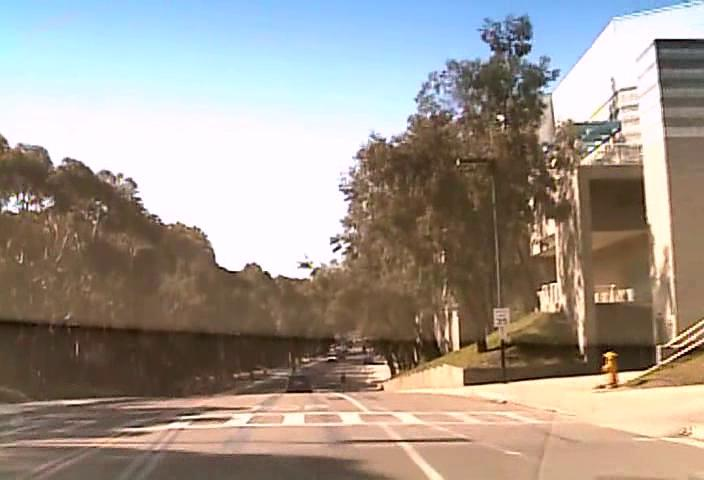speedLimitUrdbl: (492, 306, 511, 327)
